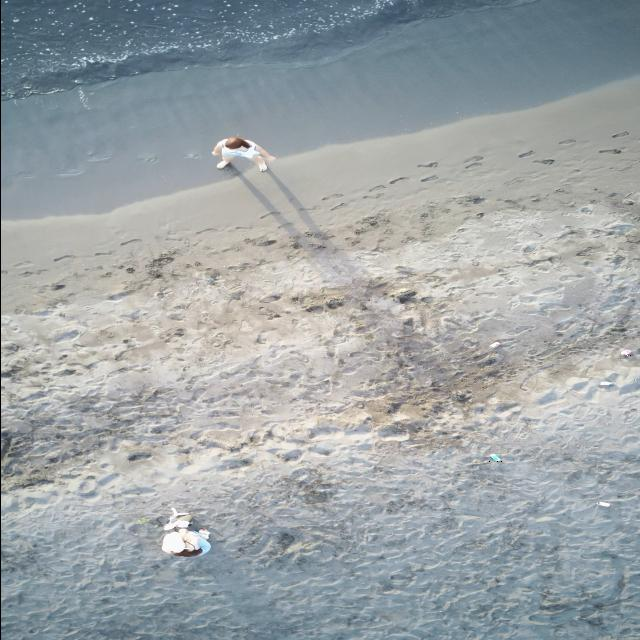Garbage: (161, 507, 207, 555), (163, 507, 190, 528), (161, 531, 184, 552), (580, 203, 592, 212), (135, 516, 148, 524), (620, 348, 632, 356), (488, 340, 500, 347), (623, 196, 635, 203), (600, 380, 612, 387), (489, 453, 500, 460), (597, 500, 608, 506)
